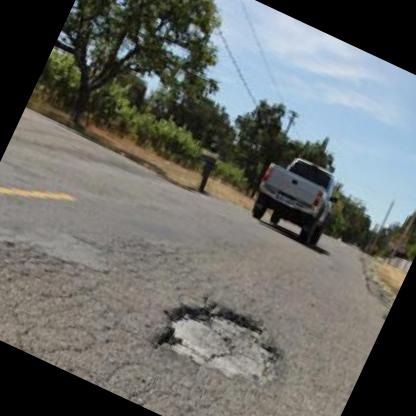pothole: (148, 280, 298, 402)
